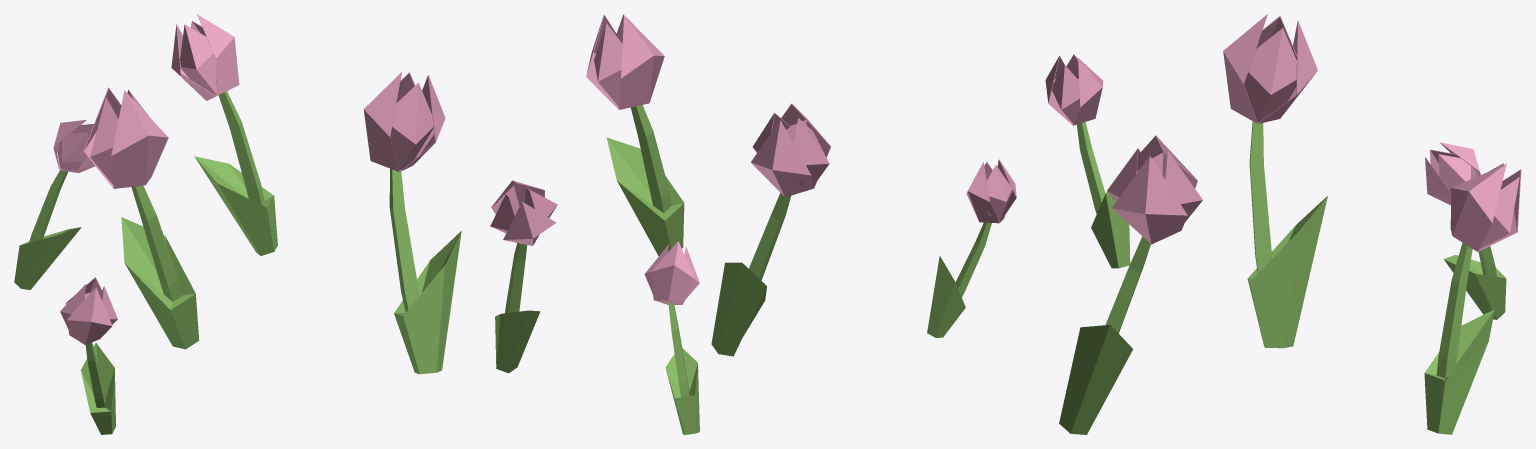
File: FlowerPink02.fbx
The picture shows the model from 3 angles, left to right: view 1: azimuth 30°, elevation 25°; view 2: azimuth 150°, elevation 25°; view 3: azimuth 270°, elevation 25°; orthographic projection. The views are drawn at different scales.
Parts seen in each view (by area): view 1: Circle.500; view 2: Circle.500; view 3: Circle.500.
Boxes of the visible parts, box(x1,y1,x2,y2) form: Circle.500: box(14, 14, 461, 434); Circle.500: box(490, 14, 1016, 434); Circle.500: box(1045, 14, 1521, 434).
Bounding box in the file's own units: 82.89 × 52.87 × 75.28.
